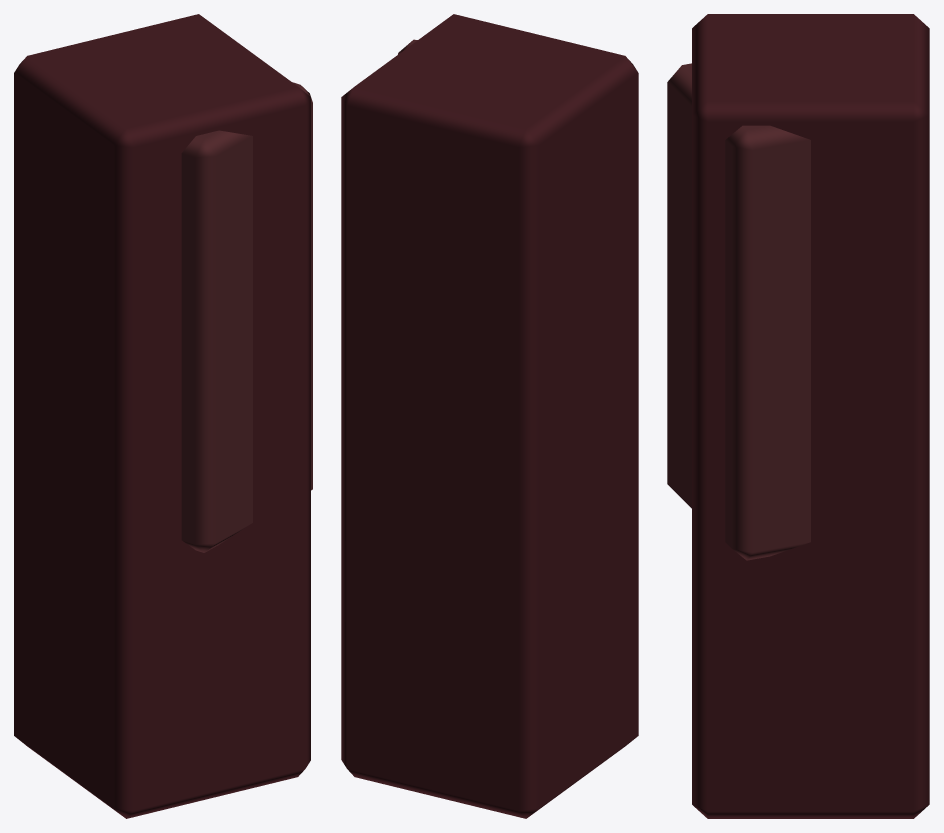
File: living-cave-cliff-corner.c6d1fa32.glb
3 renders of one model, left to right at view 1: azimuth 30°, elevation 25°; view 2: azimuth 150°, elevation 25°; view 3: azimuth 270°, elevation 25°, orthographic. The views are drawn at different scales.
Visible parts, largest first — view 1: body; view 2: body; view 3: body.
Boxes of the visible parts, x1,y1,x2,y2 form: body: (14,14,312,818); body: (341,14,638,818); body: (667,14,929,818).
Bounding box in the file's own units: 0.662 × 2 × 0.662.
